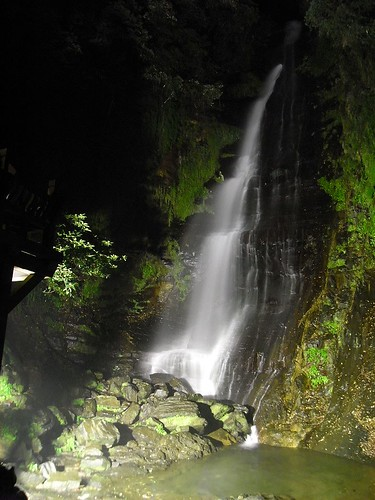wufengciWaterfall: (170, 40, 298, 428)
